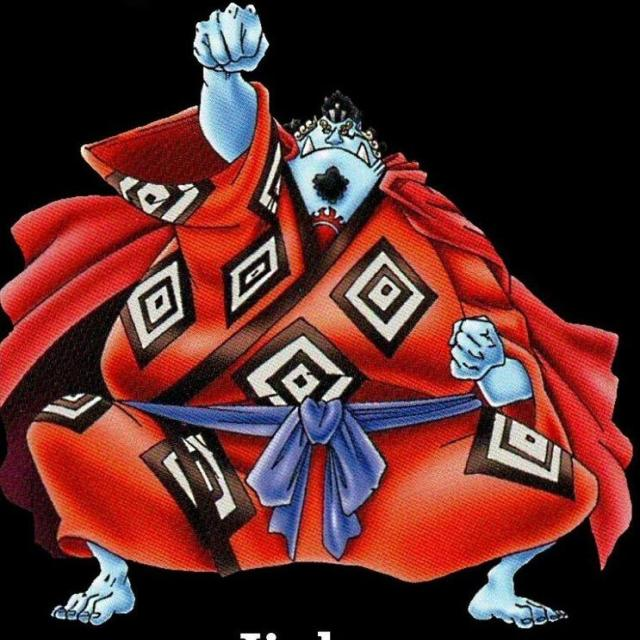Jinbe: (0, 3, 633, 627)
